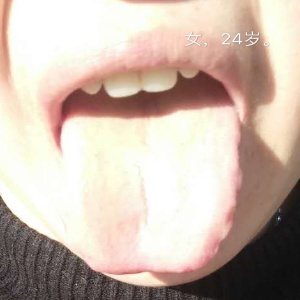st: (61, 108, 245, 274)
